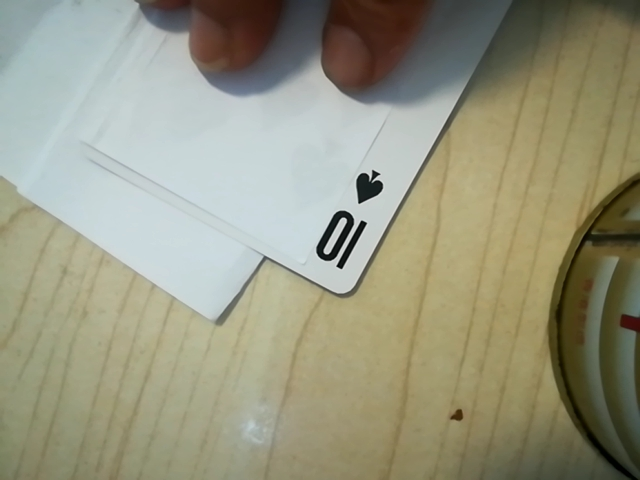ht 10: (301, 151, 397, 283)
